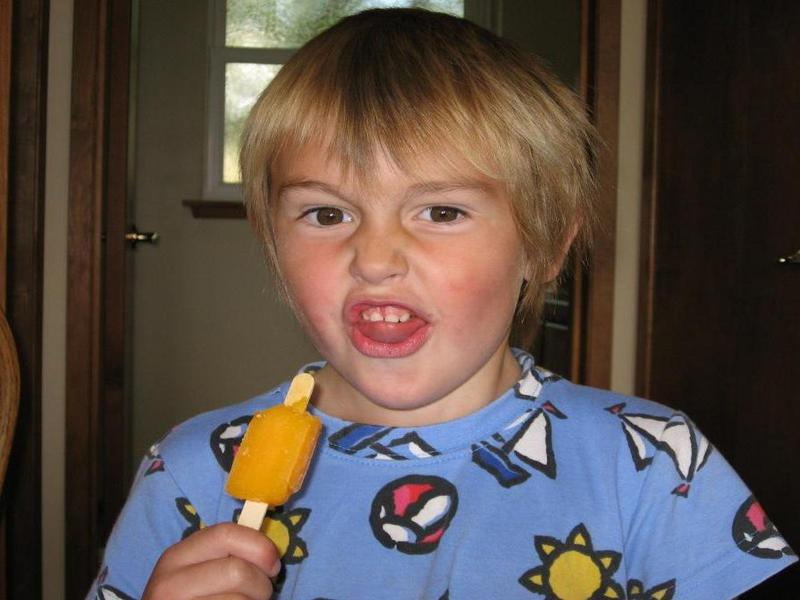person: (88, 5, 771, 600)
